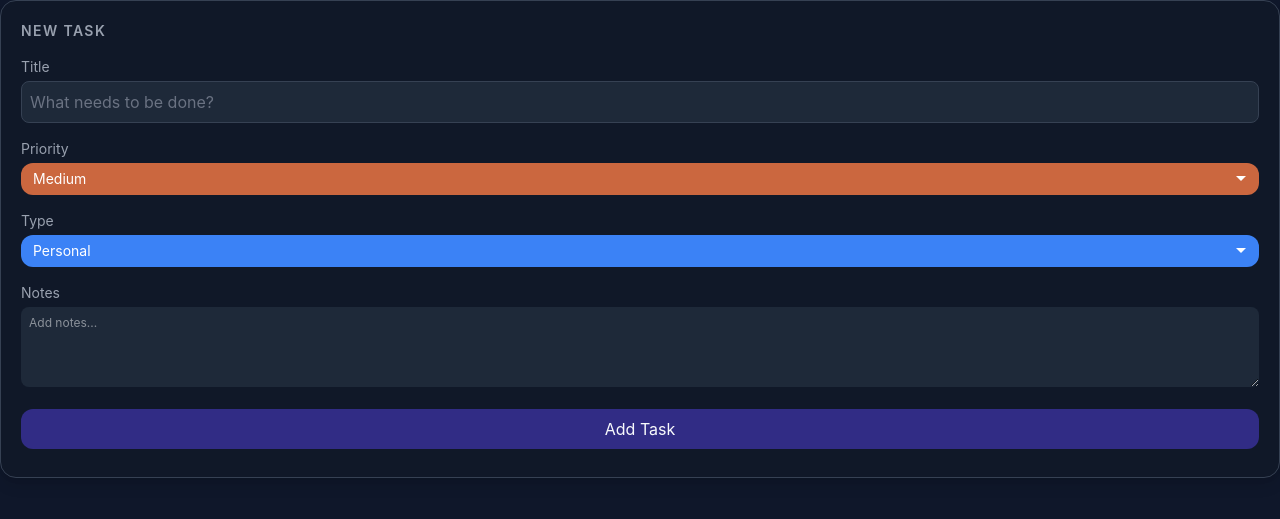
Test case: TaskForm › disables the submit button when the title is invaild
In the field labelled "Title": (640,102) [21,81,1259,123], type "T"
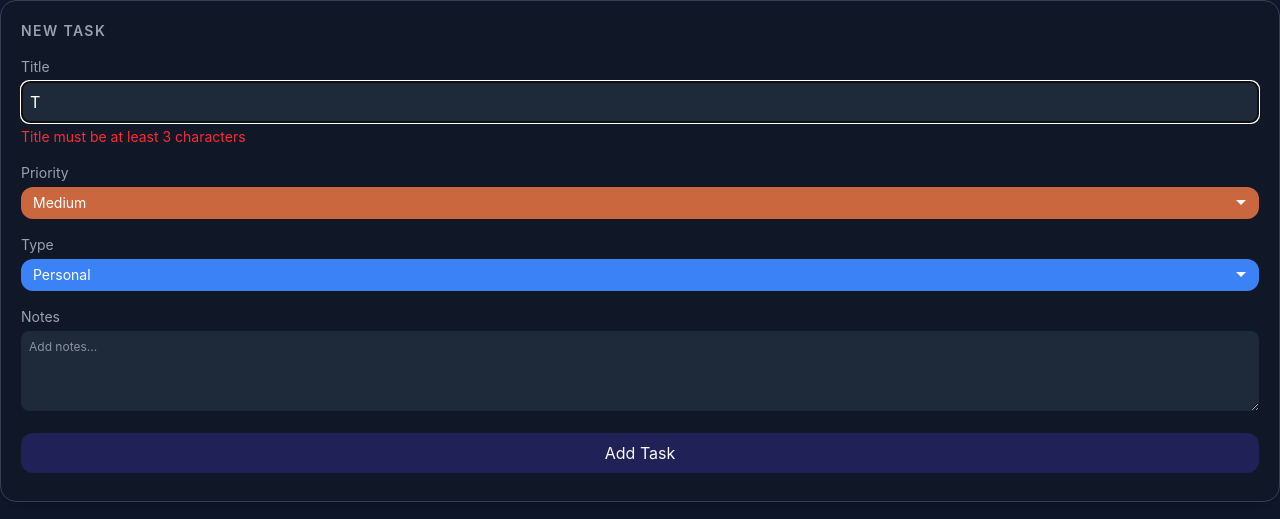
expect the button "Add Task" is disabled: met, box [21,433,1259,473]
